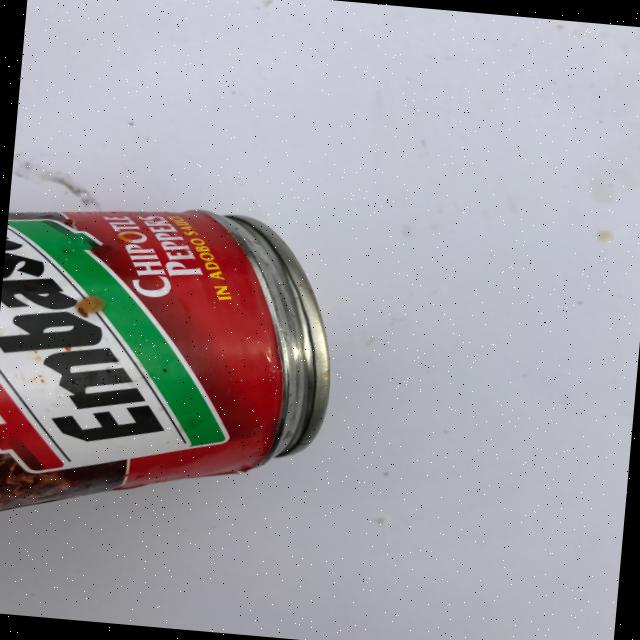metal: (0, 191, 345, 543)
